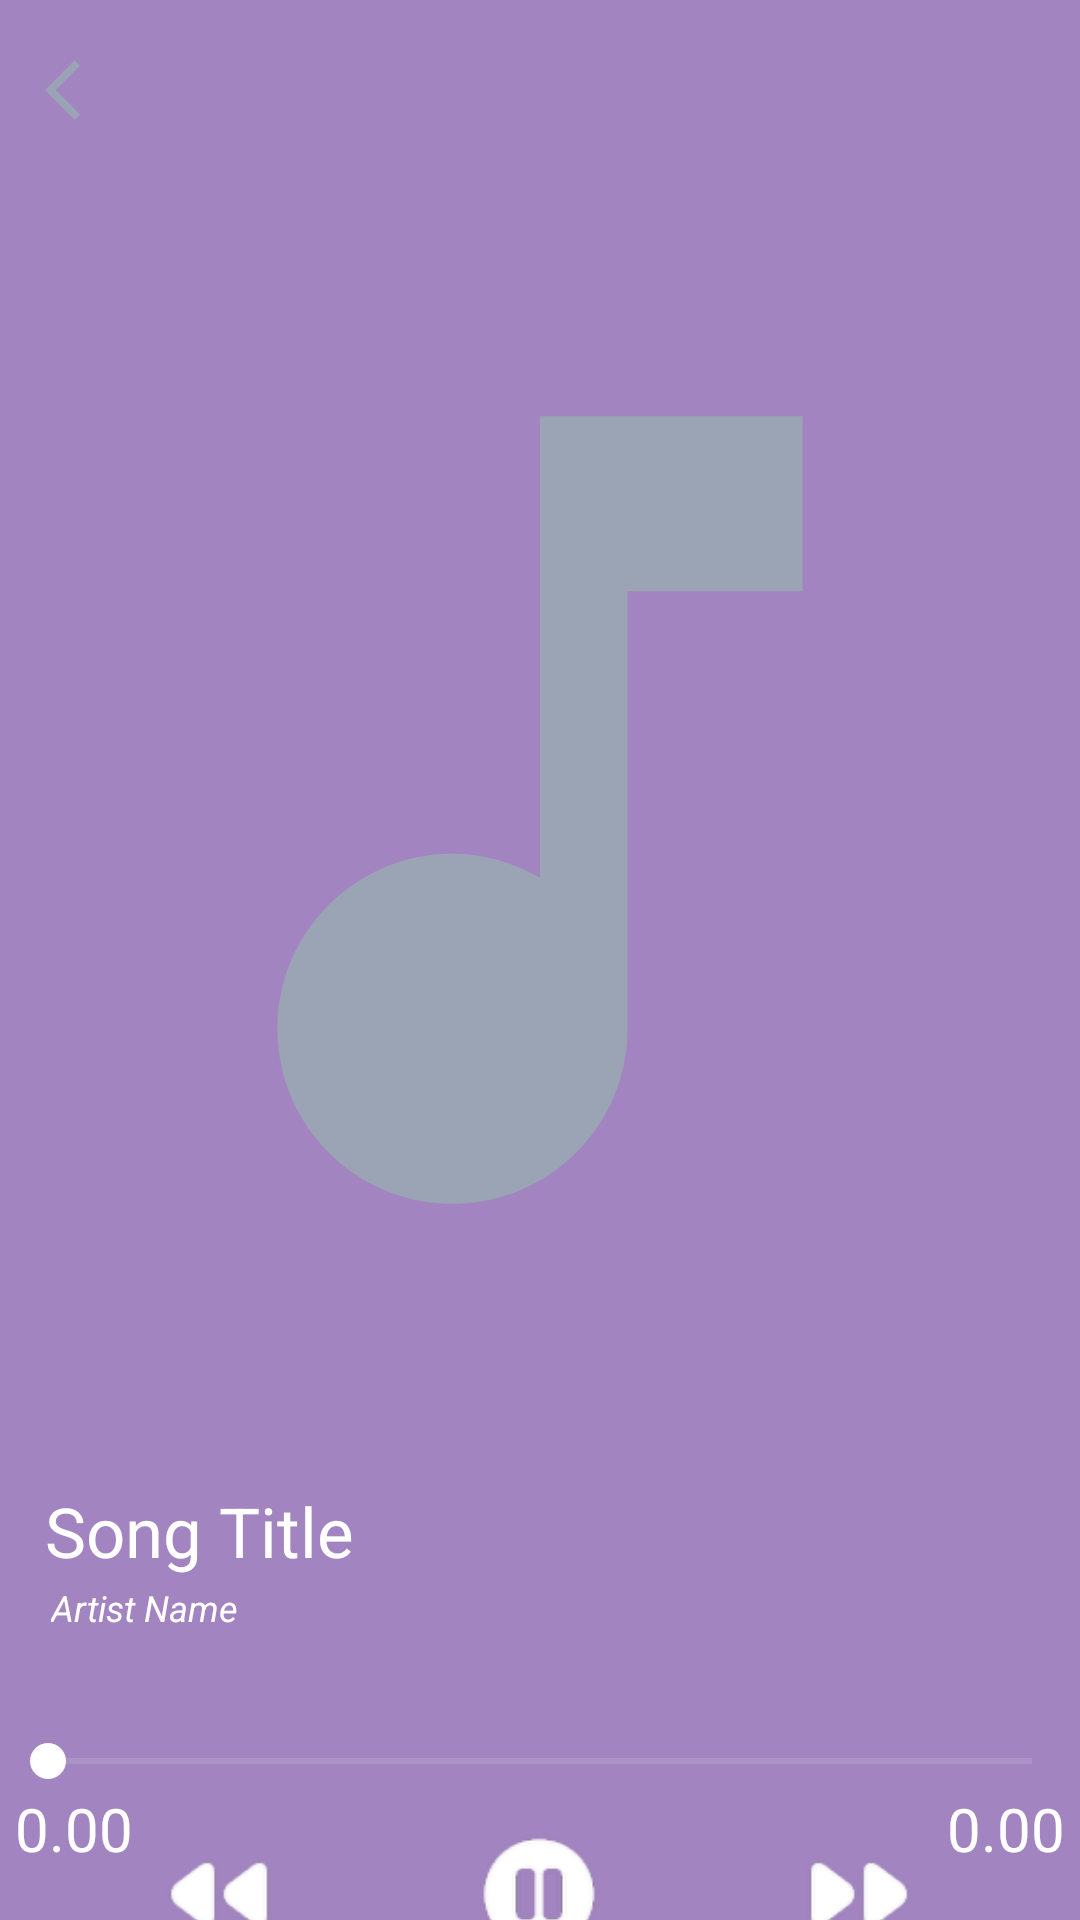

Named icons in this screenshot (1080w x 1920h) and their bounding boxes, region(x1, y1, x2, y2):
back: region(46, 61, 80, 119)
